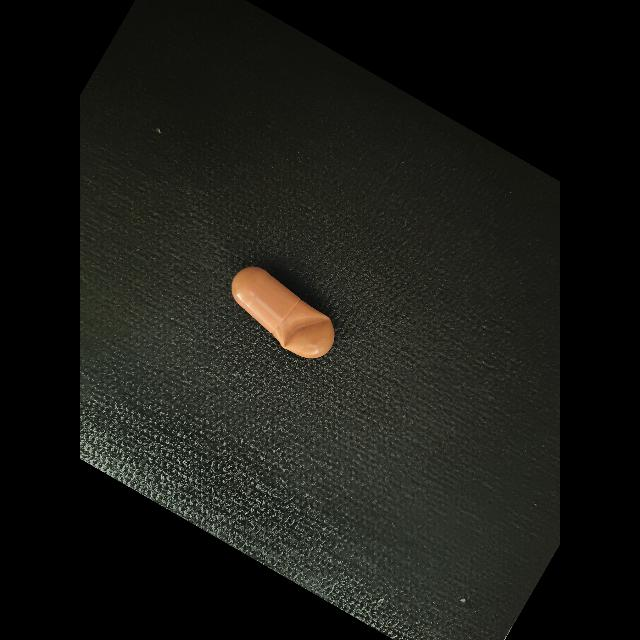Defective Capsule: (282, 316, 331, 349)
